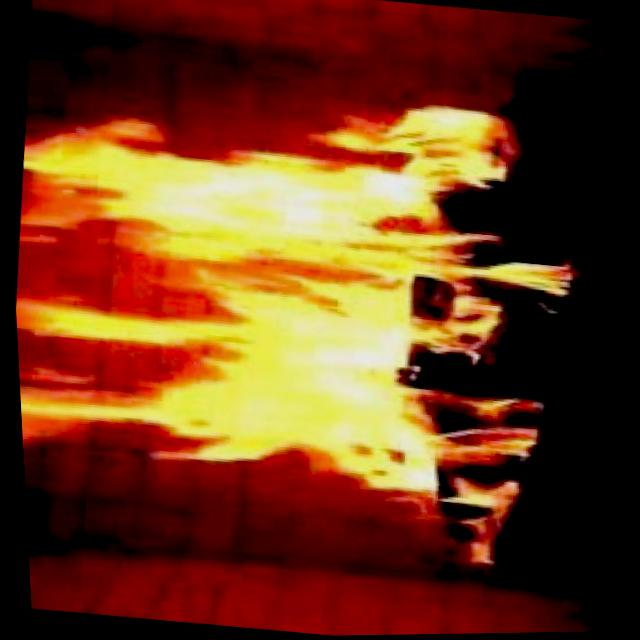helmet: (3, 58, 606, 579)
